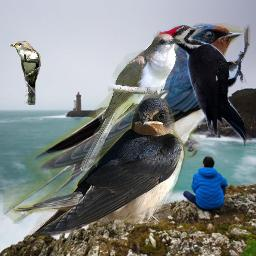Cuckoo: (79, 33, 181, 172), (10, 41, 41, 105)
Swallow: (3, 23, 244, 224), (11, 97, 185, 236)
Woodpecker: (157, 24, 251, 147)
